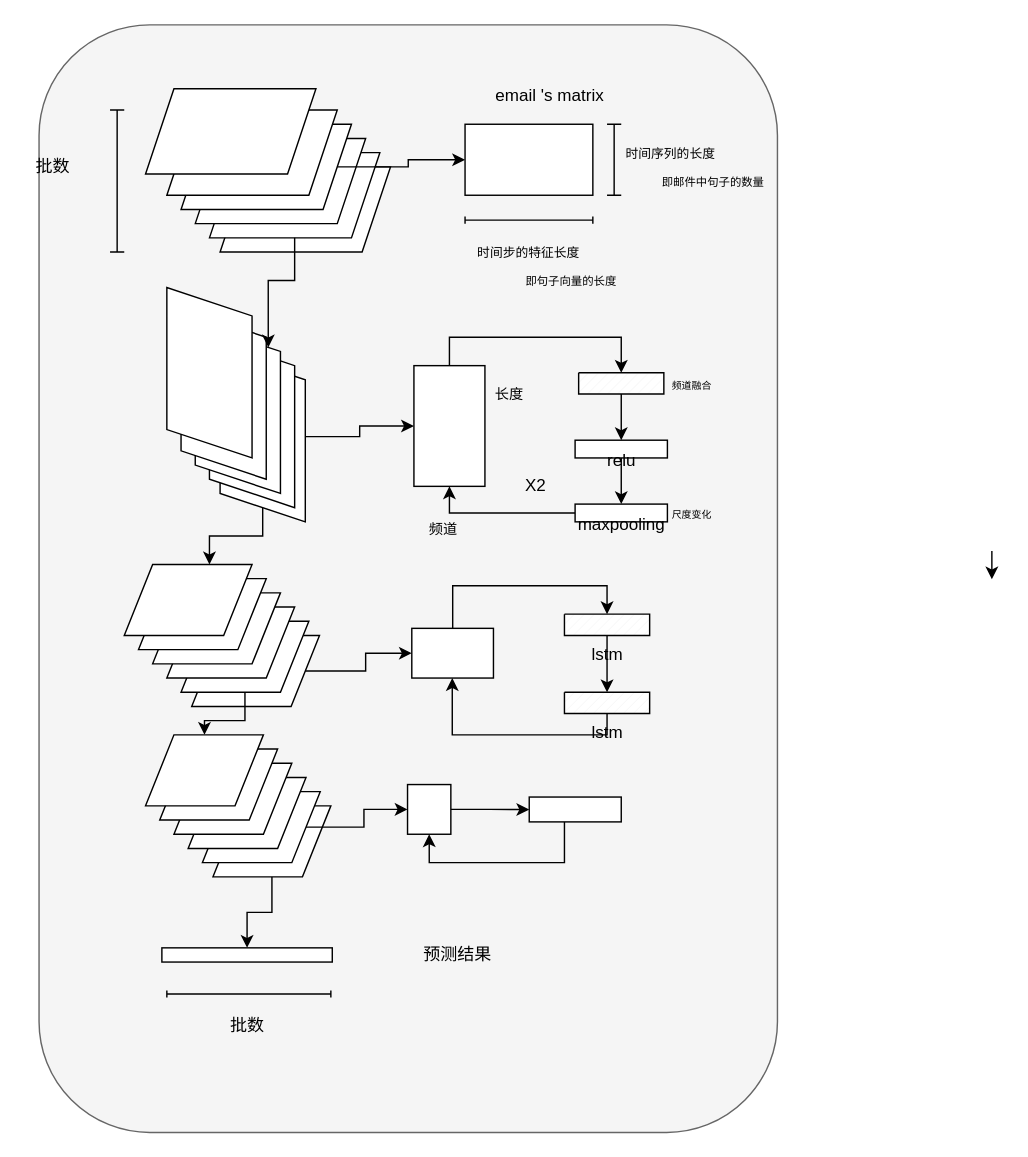
This 1028x1157 diagram has some shape labels left out. Each missing label, with the centre of its shape:
"conv1d" belongs at point 620,382.
"fc" belongs at point 574,809.
